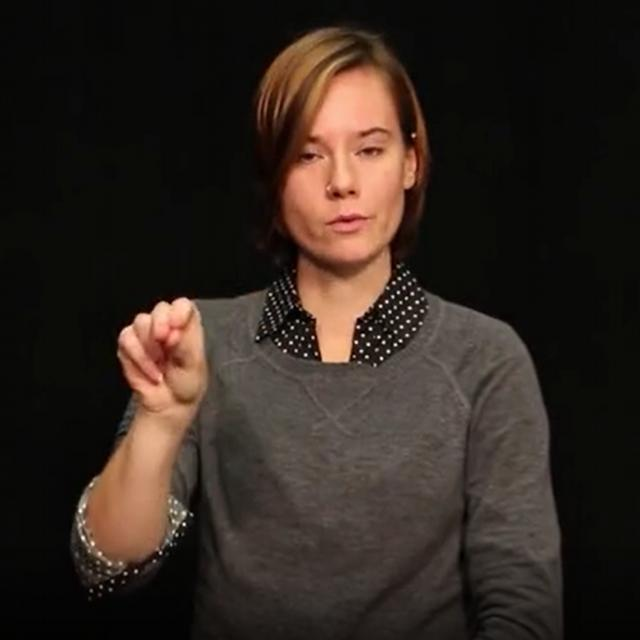no: (118, 298, 209, 415)
